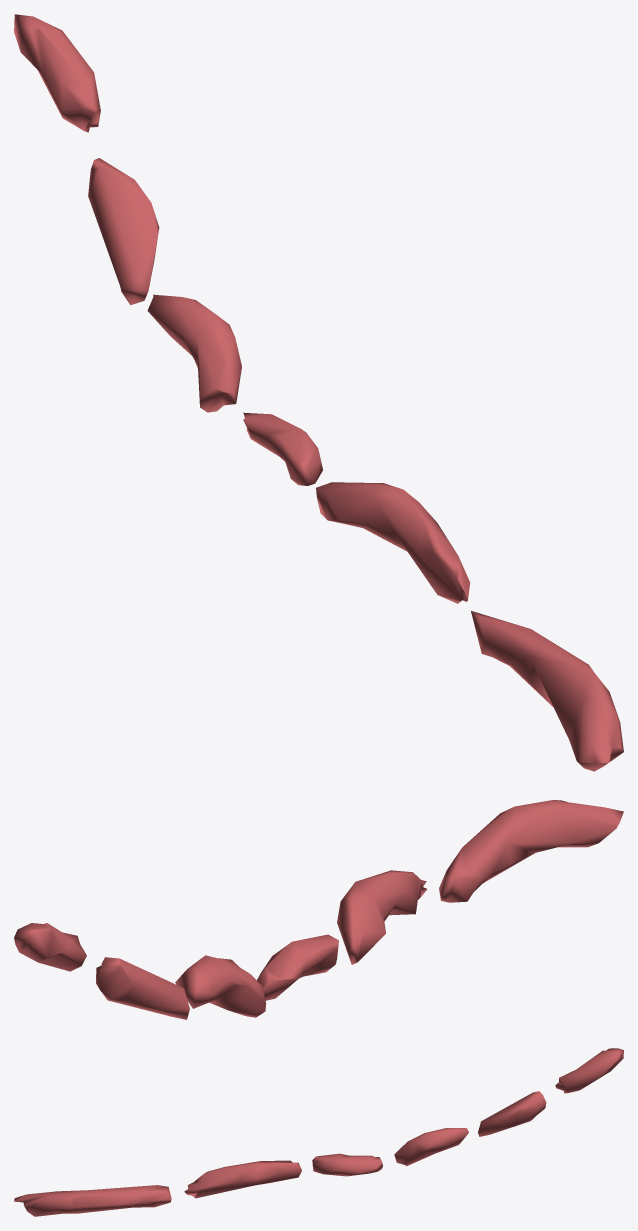
3 renders of one model, top to bottom at view 1: azimuth 30°, elevation 25°; view 2: azimuth 150°, elevation 25°; view 3: azimuth 270°, elevation 25°, orthographic. The views are drawn at different scales.
Visible parts, largest first — view 1: 左侧颈棘间肌; view 2: 左侧颈棘间肌; view 3: 左侧颈棘间肌.
Boxes of the visible parts, x1,y1,x2,y2 form: 左侧颈棘间肌: [14, 14, 623, 771]; 左侧颈棘间肌: [14, 800, 623, 1019]; 左侧颈棘间肌: [14, 1048, 623, 1216].
Bounding box in the file's own units: 0.01 × 0.0406 × 0.1331.
